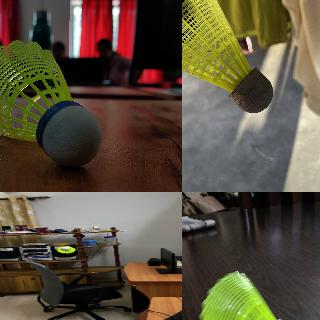shuttlecock: (0, 39, 102, 167), (182, 0, 273, 113), (198, 271, 297, 319), (56, 246, 75, 253)
